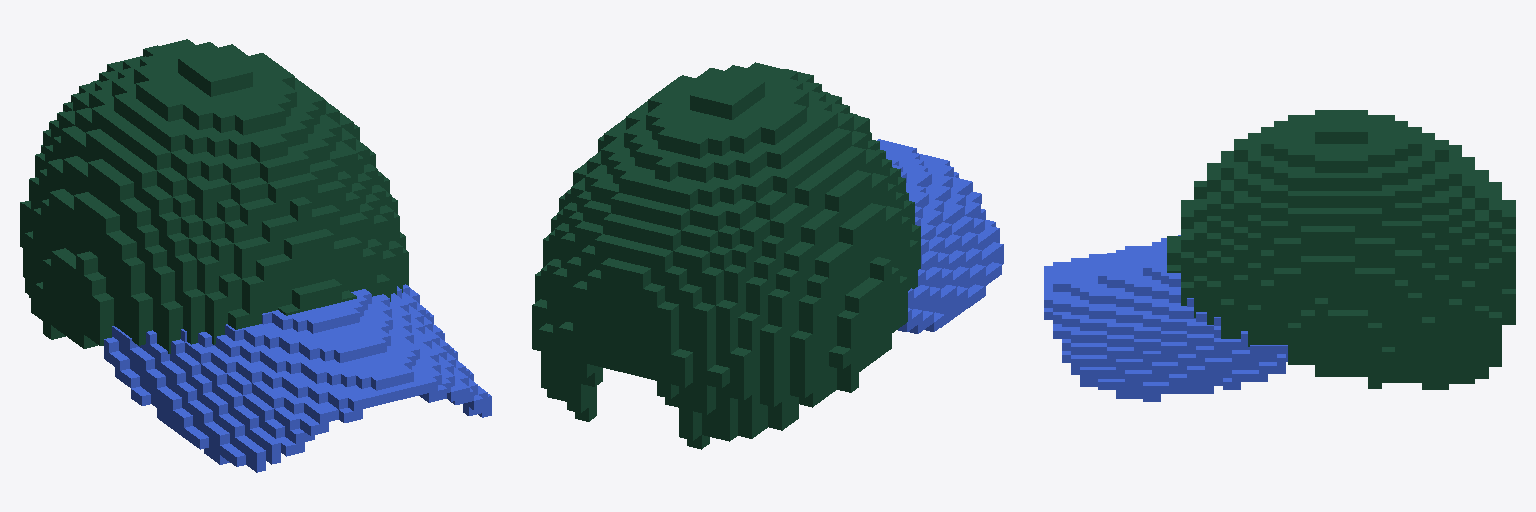
The robot description file, URDF, robot "physxnet_10086_strict":
<?xml version='1.0' encoding='utf-8'?>
<robot name="physxnet_10086_strict">
  <link name="l_world">
    <inertial>
      <origin xyz="0 0 0" rpy="0 0 0" />
      <mass value="0.0100000000" />
      <inertia ixx="0.0000001667" ixy="0.0" ixz="0.0" iyy="0.0000001667" iyz="0.0" izz="0.0000001667" />
    </inertial>
  </link><link name="l_0">
    <inertial>
      <origin xyz="-0.0000153380 -0.0659829021 -0.0406638240" rpy="0 0 0" />
      <mass value="0.0242796480" />
      <inertia ixx="0.0000501594" ixy="0.0" ixz="0.0" iyy="0.0000555777" iyz="0.0" izz="0.0000940962" />
    </inertial><visual>
      <origin xyz="0 0 0" rpy="0 0 0" />
      <geometry>
        <mesh filename="../rigid_visuals/part_000_visual.obj" scale="1 1 1" />
      </geometry><material name="mat_l_0">
        <color rgba="0.32548 0.48041 0.93131 1.00000" />
      </material>
    </visual><collision>
      <origin xyz="0 0 0" rpy="0 0 0" />
      <geometry>
        <mesh filename="part_000_collision.obj" scale="1 1 1" />
      </geometry>
    </collision>
  </link><joint name="joint_fixed_l_world_l_0" type="fixed">
    <parent link="l_world" />
    <child link="l_0" />
    <origin xyz="0 0 0" rpy="0 0 0" />
  </joint><link name="l_1">
    <inertial>
      <origin xyz="0.0000000000 0.0393929603 0.0003869399" rpy="0 0 0" />
      <mass value="0.0198943865" />
      <inertia ixx="0.0000989531" ixy="0.0" ixz="0.0" iyy="0.0000735149" iyz="0.0" izz="0.0001088061" />
    </inertial><visual>
      <origin xyz="0 0 0" rpy="0 0 0" />
      <geometry>
        <mesh filename="../rigid_visuals/part_001_visual.obj" scale="1 1 1" />
      </geometry><material name="mat_l_1">
        <color rgba="0.15447 0.35718 0.26453 1.00000" />
      </material>
    </visual><collision>
      <origin xyz="0 0 0" rpy="0 0 0" />
      <geometry>
        <mesh filename="part_001_collision.obj" scale="1 1 1" />
      </geometry>
    </collision>
  </link><joint name="joint_fixed_l_0_l_1" type="fixed">
    <parent link="l_0" />
    <child link="l_1" />
    <origin xyz="0 0 0" rpy="0 0 0" />
  </joint><link name="l_2">
    <inertial>
      <origin xyz="-0.0082147623 0.1274639765 -0.0628147509" rpy="0 0 0" />
      <mass value="0.0003073107" />
      <inertia ixx="0.0000000098" ixy="0.0" ixz="0.0" iyy="0.0000002105" iyz="0.0" izz="0.0000002106" />
    </inertial><visual>
      <origin xyz="0 0 0" rpy="0 0 0" />
      <geometry>
        <mesh filename="../rigid_visuals/part_002_visual.obj" scale="1 1 1" />
      </geometry><material name="mat_l_2">
        <color rgba="0.29417 0.82410 0.87988 1.00000" />
      </material>
    </visual><collision>
      <origin xyz="0 0 0" rpy="0 0 0" />
      <geometry>
        <mesh filename="part_002_collision.obj" scale="1 1 1" />
      </geometry>
    </collision>
  </link><joint name="joint_fixed_l_1_l_2" type="fixed">
    <parent link="l_1" />
    <child link="l_2" />
    <origin xyz="0 0 0" rpy="0 0 0" />
  </joint>
</robot>

--- Render facts (derived) ---
Views: 3 orthographic renders of the robot side by side, from view 1: azimuth 30°, elevation 25°; view 2: azimuth 150°, elevation 25°; view 3: azimuth 270°, elevation 25°.
Model physxnet_10086_strict with 4 links and 3 joints (3 fixed), rooted at l_world, posed all joints at 0.
Links seen in each view (by area): view 1: l_1, l_0; view 2: l_1, l_0; view 3: l_1, l_0.
Link boxes in pixels (x1=…): l_1: x1=20, y1=39, x2=408, y2=353; l_0: x1=104, y1=284, x2=491, y2=472; l_1: x1=532, y1=62, x2=920, y2=449; l_0: x1=877, y1=139, x2=1003, y2=333; l_1: x1=1167, y1=110, x2=1515, y2=389; l_0: x1=1044, y1=235, x2=1287, y2=401.
Size in the robot's own frame: 0.169 by 0.283 by 0.1529 metres.
Meshes: 3 distinct files referenced, 2 mesh visuals loaded (2 OBJ); not drawn: 1 (reference not matched to a file when rendering).
